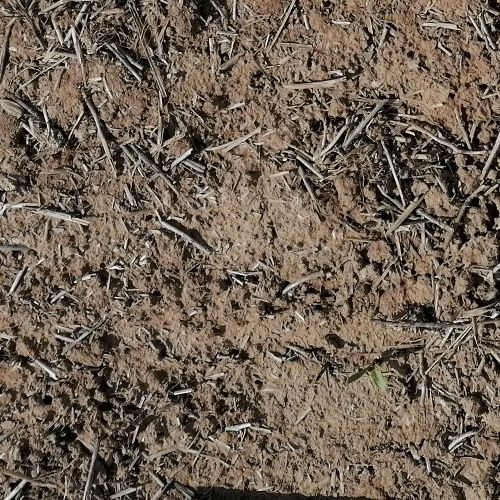beet: (347, 354, 386, 397)
